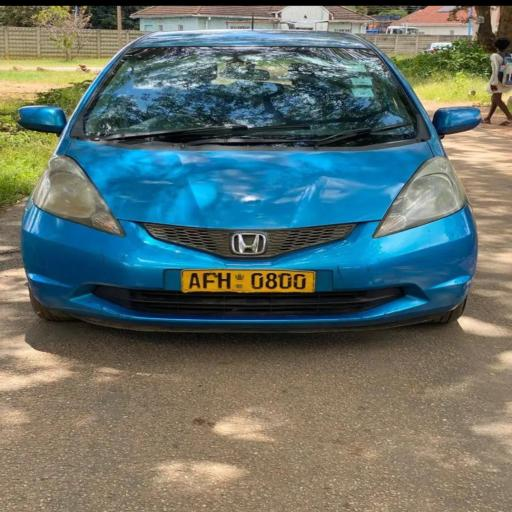number-plates: (177, 266, 320, 297)
